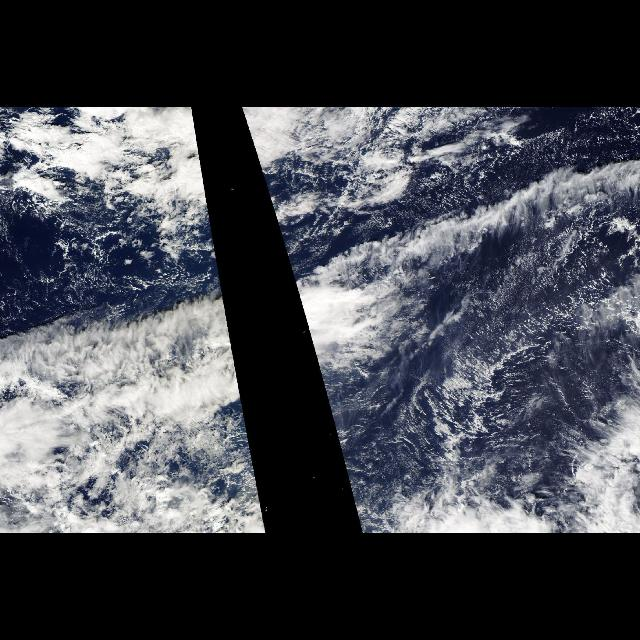Fish: (241, 107, 637, 417), (10, 107, 246, 417)
